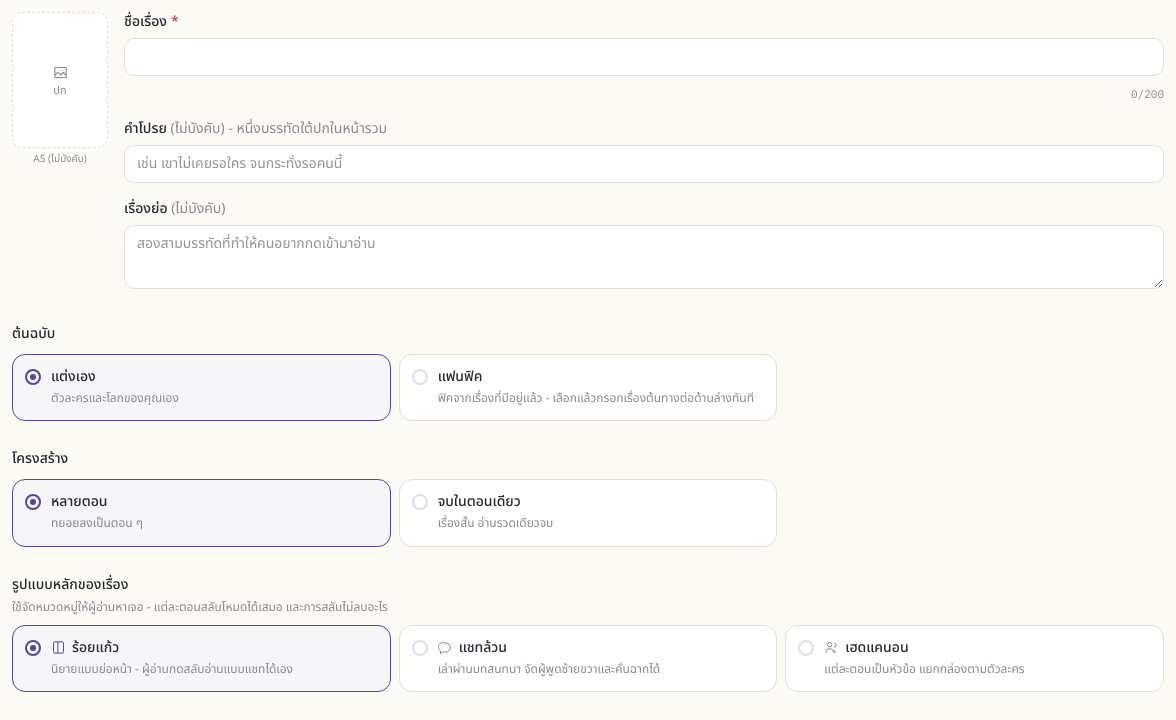
what the create form asks › counts the title's characters against its limit
The width and height of the screenshot is (1176, 720).
Type "สวัสดี" into the field labelled "ชื่อเรื่อง*".
click(644, 57); type("สวัสดี")  # box [124,38,1164,76]
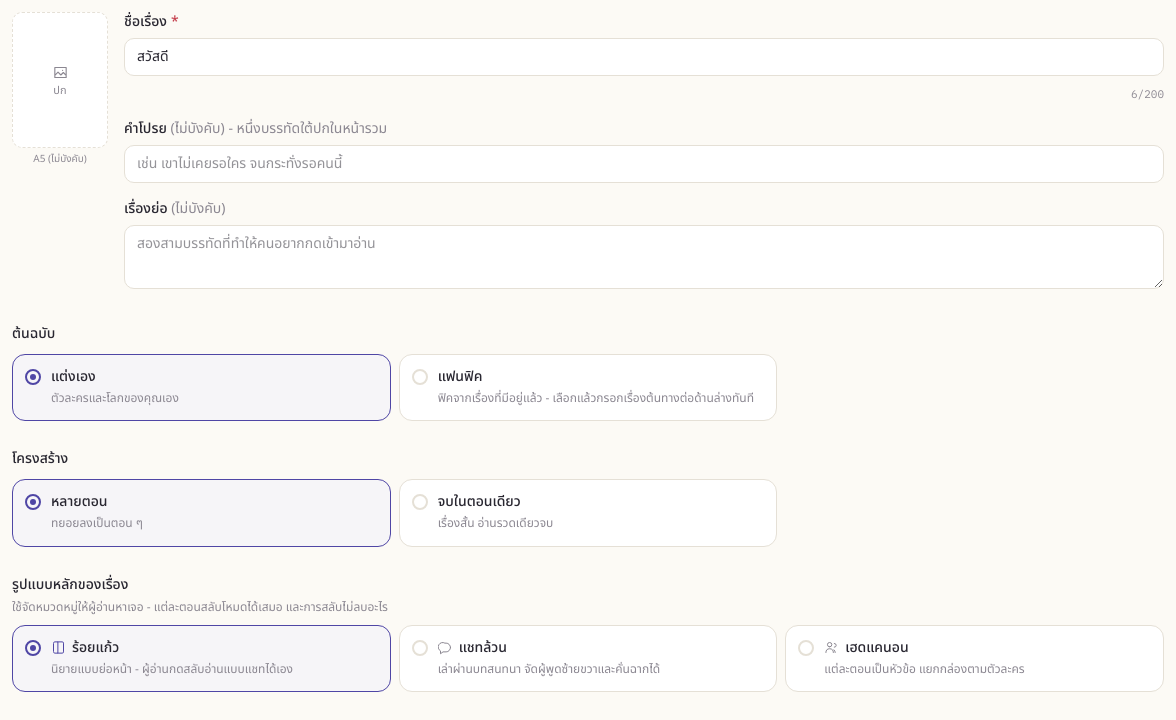
Now the text "6/200" is shown, box [1131,87,1164,101]
